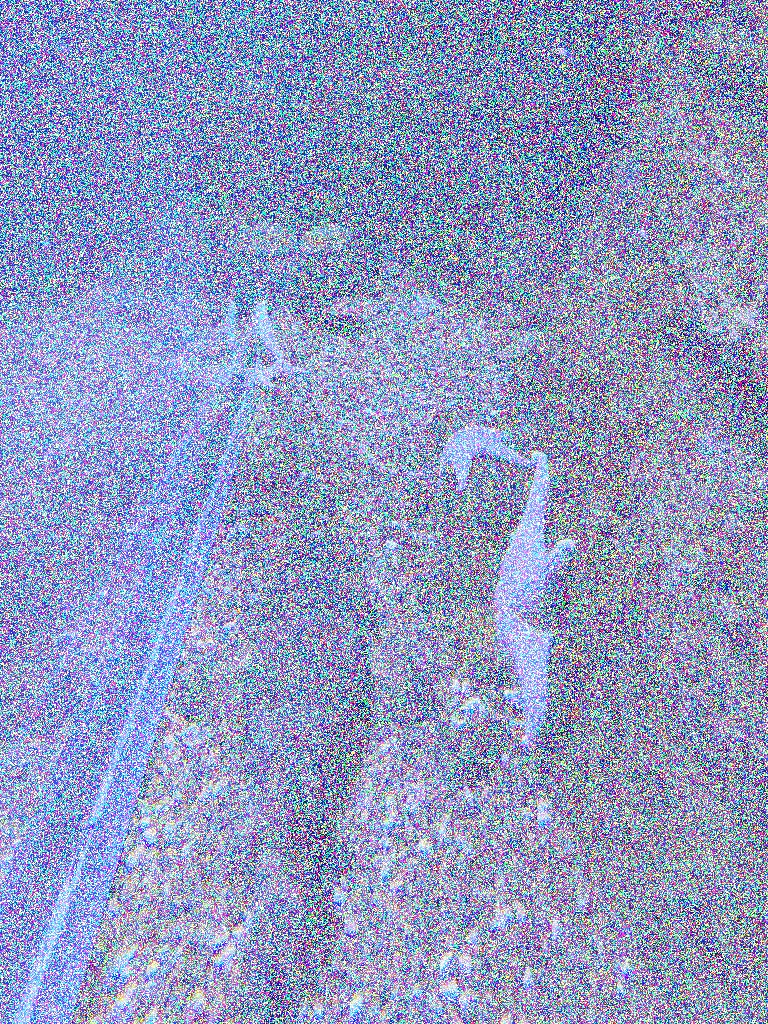shark: (182, 525, 424, 1021)
starfish: (492, 463, 574, 753), (421, 420, 531, 492), (246, 300, 308, 392)
